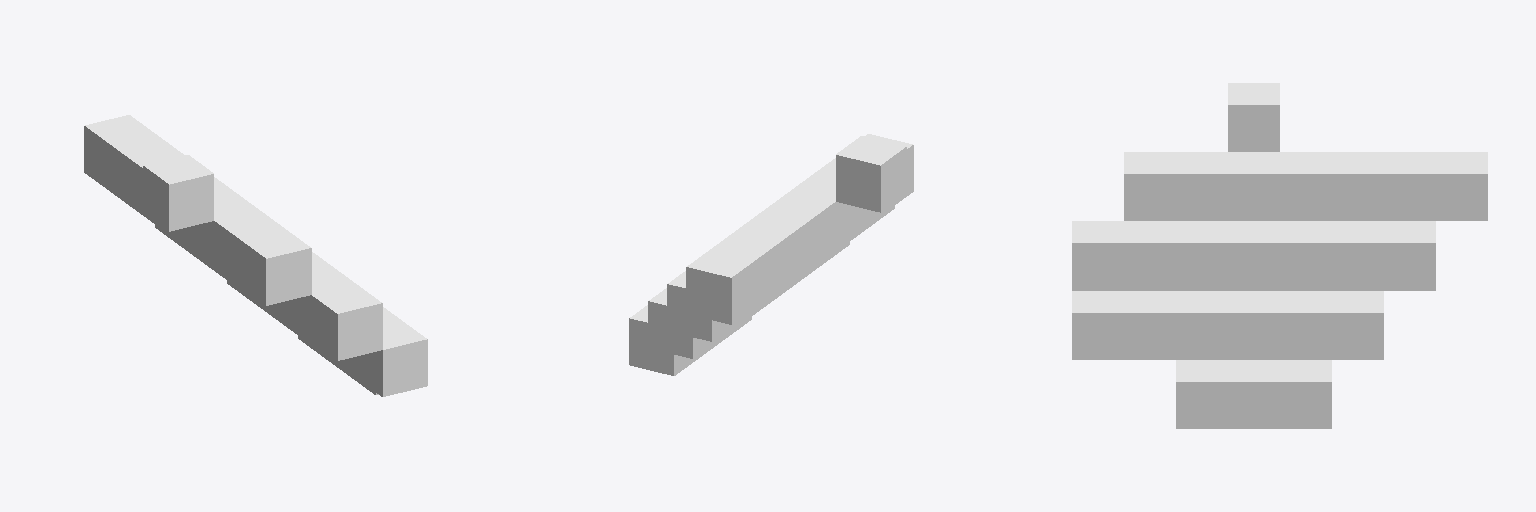
File: YellowHouseParts-110.obj
3 renders of one model, left to right at view 1: azimuth 30°, elevation 25°; view 2: azimuth 150°, elevation 25°; view 3: azimuth 270°, elevation 25°, orthographic.
Visible parts, largest first — view 1: object 1; view 2: object 1; view 3: object 1.
Boxes of the visible parts, x1,y1,x2,y2 form: object 1: [84, 115, 427, 396]; object 1: [629, 134, 913, 375]; object 1: [1072, 83, 1487, 428].
Bounding box in the file's own units: 0.5 × 0.5 × 0.8.